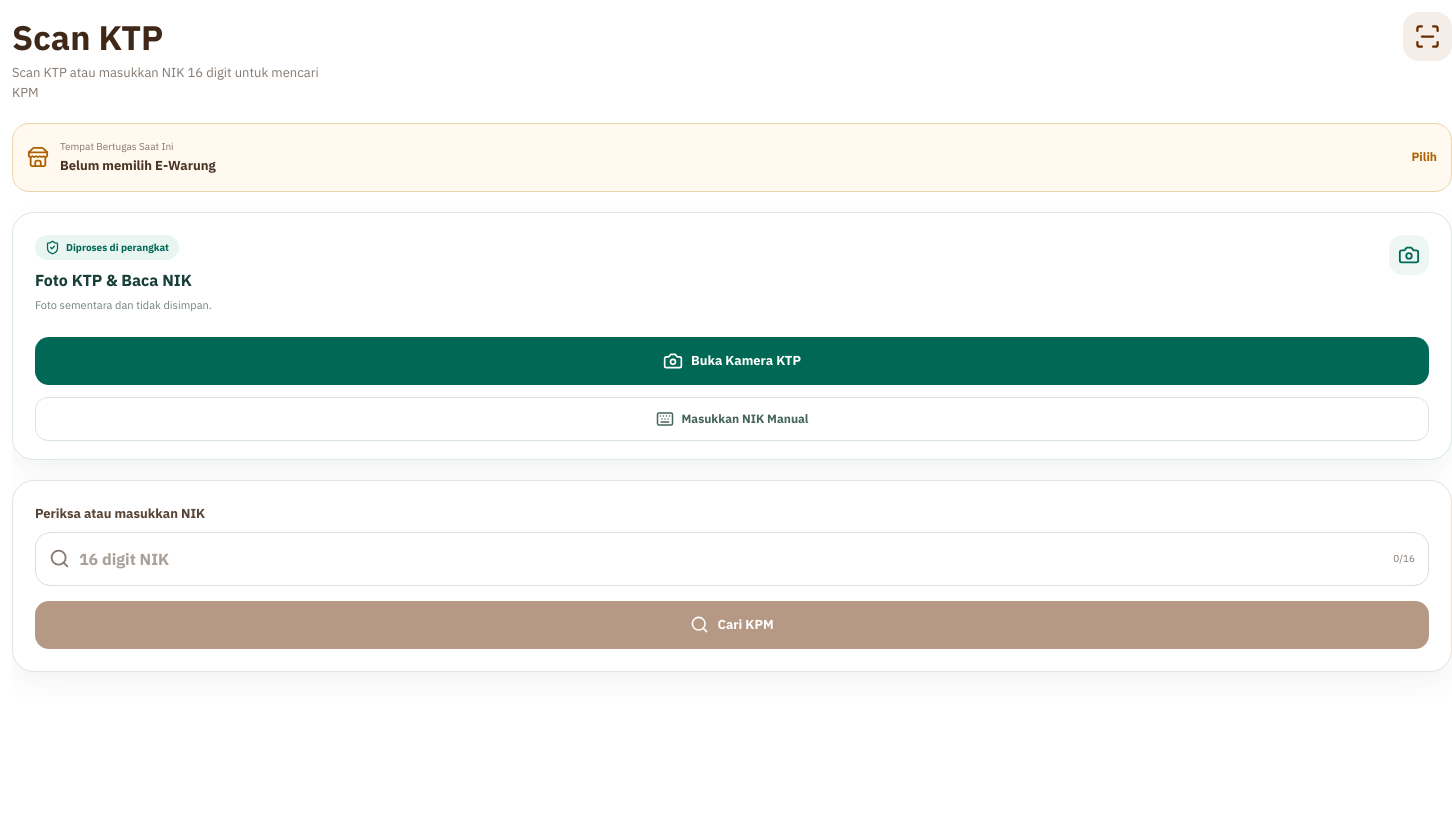
Test case: Surveyor Exact NIK Lookup › normalizes input and performs exact 16-digit lookup
Type "3576-0101 0101-0001" into the field with test id "nik-input" at (732, 559), box [79,547,1384,571]
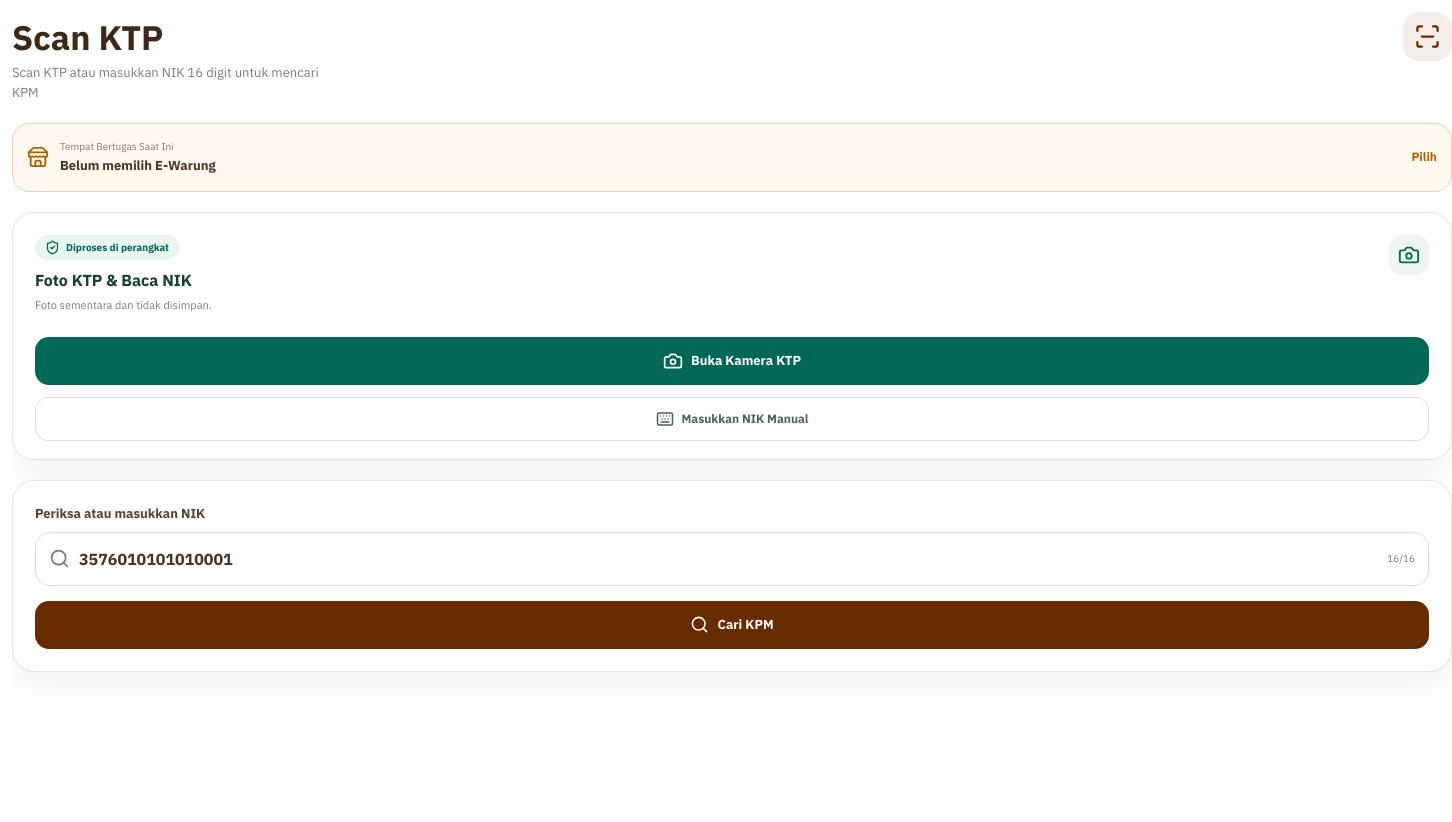
Check: the field with test id "nik-input" holds "3576010101010001", box [79,547,1378,571]
Submit the form, box [35,503,1429,649]
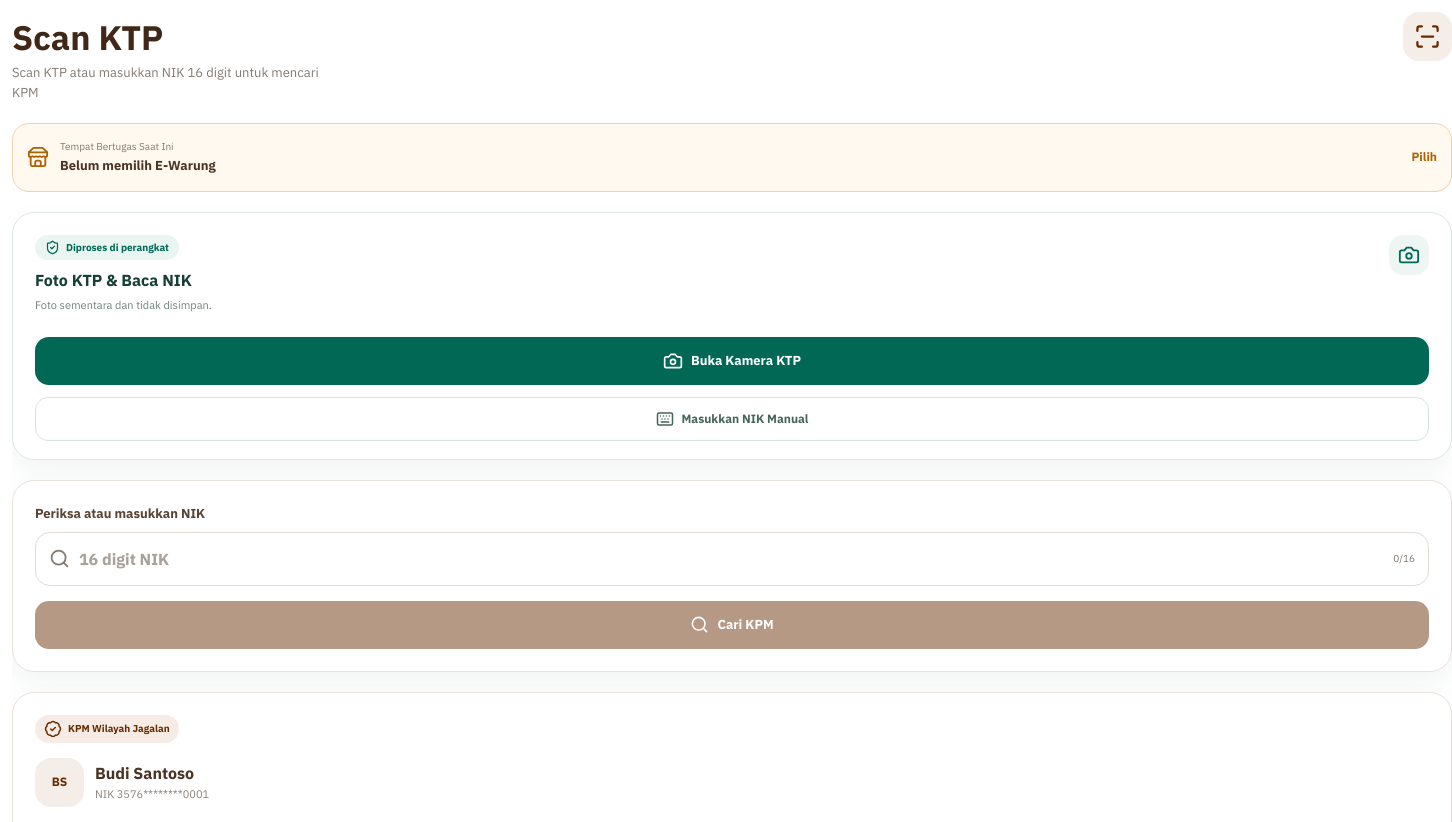
Check: the text "Budi Santoso" is shown, box [95,763,194,783]
Check: the text "3576********0001" is shown, box [95,787,209,801]
Check: the element with test id "lookup-result" shows "Jagalan", box [68,722,170,735]
